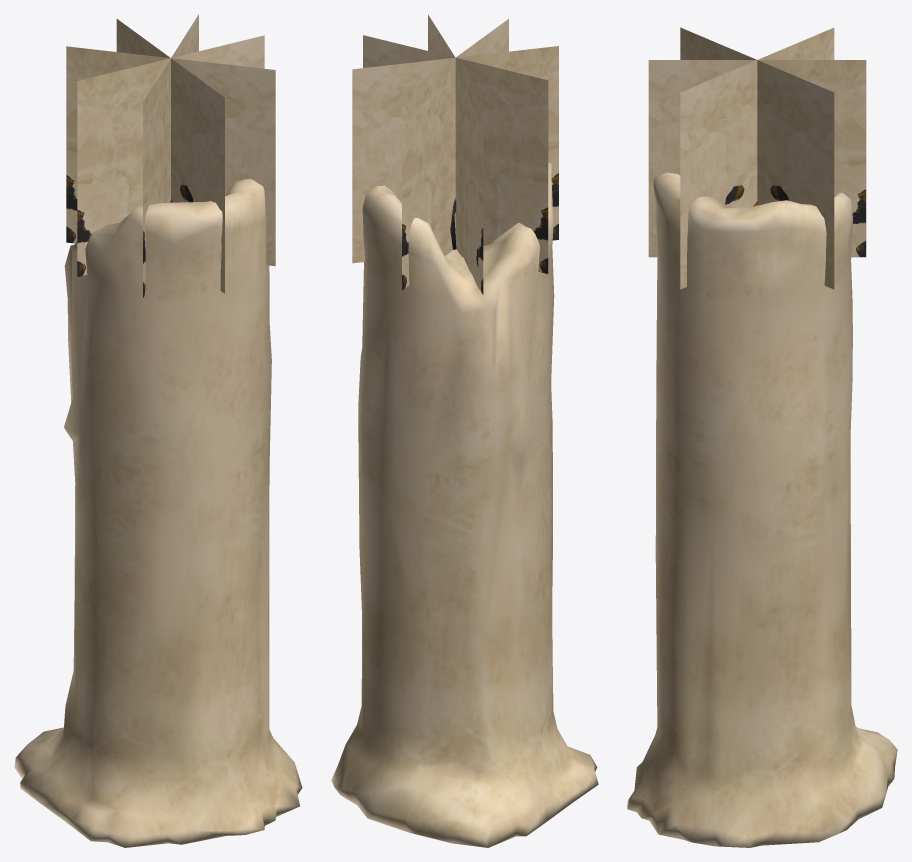
The model's file is vela.gltf.
The picture shows the model from 3 angles, left to right: view 1: azimuth 30°, elevation 25°; view 2: azimuth 150°, elevation 25°; view 3: azimuth 270°, elevation 25°; orthographic projection.
Parts seen in each view (by area): view 1: candle 2 low.005; view 2: candle 2 low.005; view 3: candle 2 low.005.
Boxes of the visible parts, x1,y1,x2,y2 form: candle 2 low.005: (14, 14, 302, 847); candle 2 low.005: (331, 14, 598, 847); candle 2 low.005: (627, 27, 897, 847).
Size of the model in its own units: 0.0811 by 0.2522 by 0.084.
Materials: 1 (1 with a texture image).
